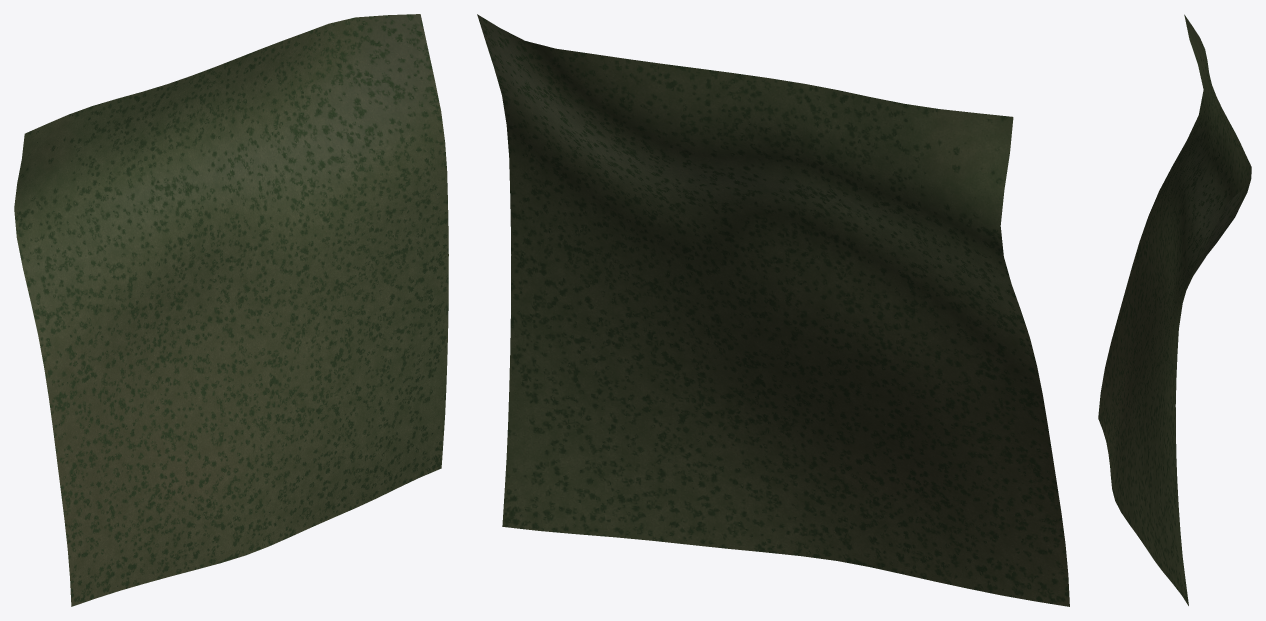
Rendered from terrain_mid_04_06.obj.
The picture shows the model from 3 angles, left to right: view 1: azimuth 30°, elevation 25°; view 2: azimuth 150°, elevation 25°; view 3: azimuth 270°, elevation 25°; orthographic projection. The views are drawn at different scales.
Visible parts, largest first — view 1: terrain_mid_04_06; view 2: terrain_mid_04_06; view 3: terrain_mid_04_06.
Part boxes in pixels (<box>): terrain_mid_04_06: <box>14,14,448,606</box>; terrain_mid_04_06: <box>477,14,1069,606</box>; terrain_mid_04_06: <box>1098,14,1251,605</box>.
Bounding box in the file's own units: 320 × 320 × 110.
1 material, 1 textured.
